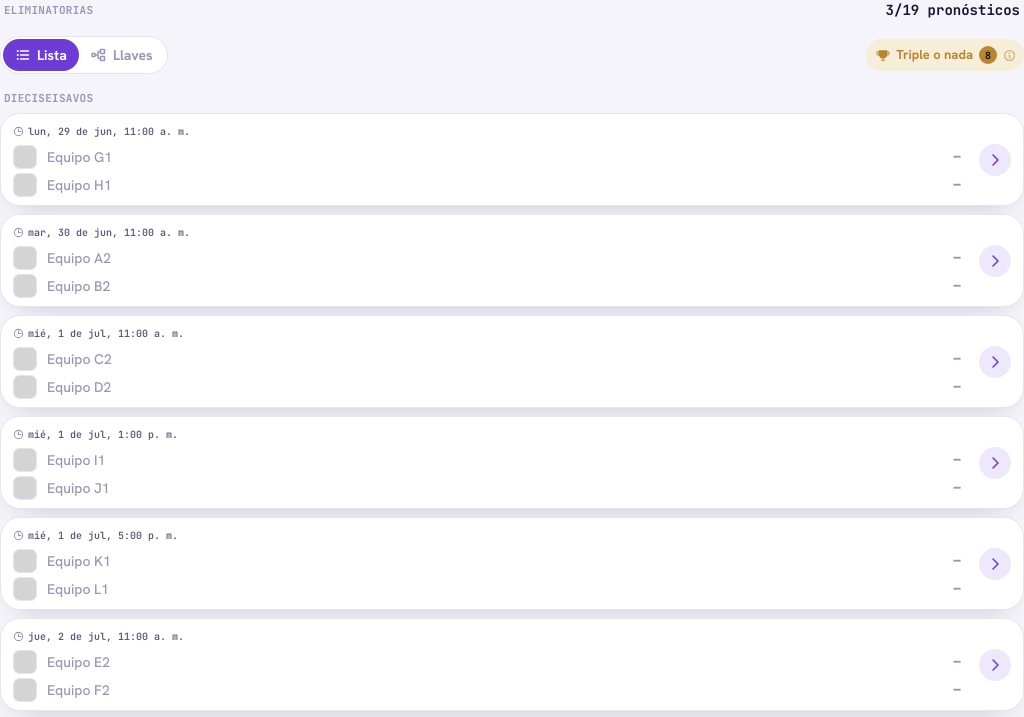
KoPredictionSheet — ingreso de pronóstico KO › error de guardado: muestra copy en español por código, no el mensaje crudo en inglés del backend
Check: the heading "Dieciseisavos" is shown, box [4,91,93,105]
Click the button with aria-label "Equipo G1 vs Equipo H1" at (109, 131), box [0,112,1023,206]
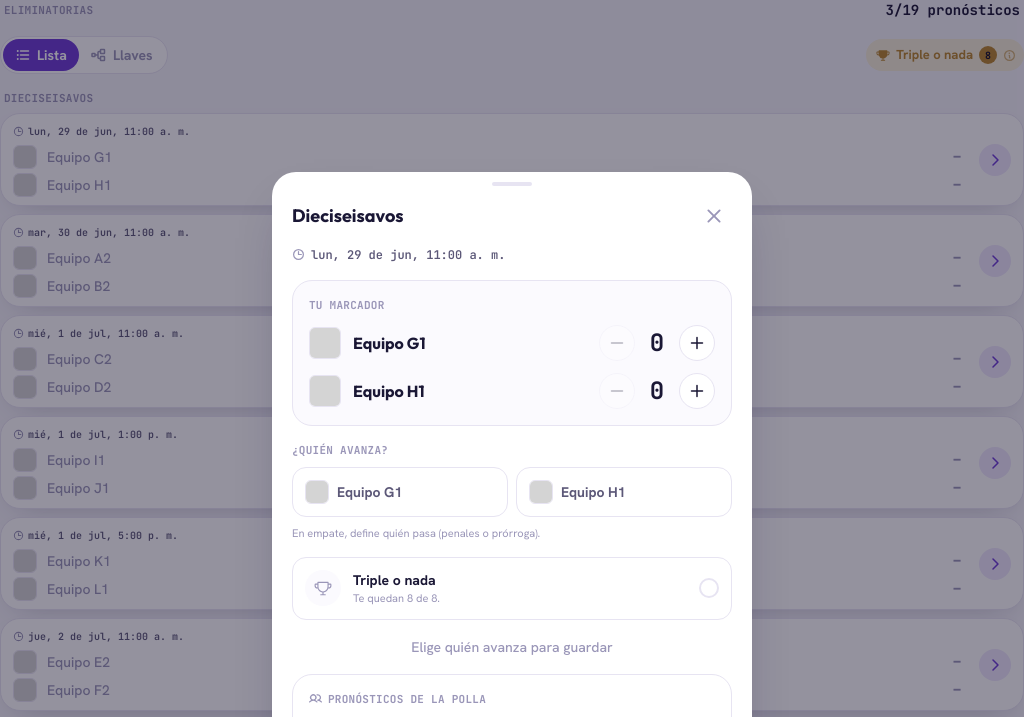
Click the button "Equipo G1" at (400, 492), box [292,466,508,516]
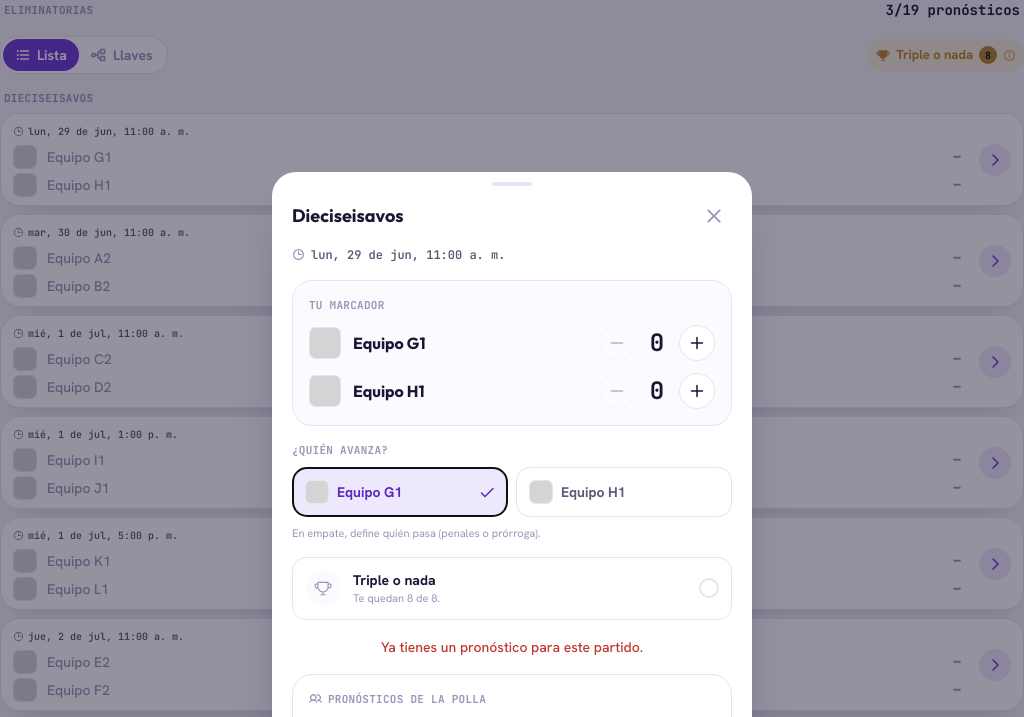
Check: the text "Ya tienes un pronóstico para este partido." is shown, box [381,636,643,656]
